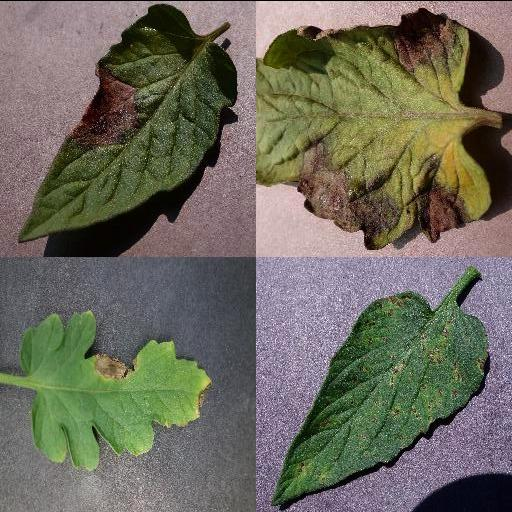Late Blight: (256, 5, 494, 250), (13, 2, 239, 242), (19, 307, 215, 473)
Septoria: (267, 292, 489, 504)
